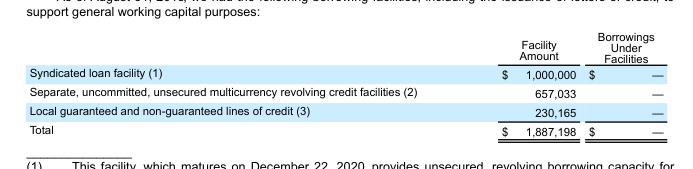table: (28, 29, 662, 137)
table column: (28, 29, 458, 137), (458, 29, 581, 137), (581, 29, 662, 137)
table column header: (28, 29, 662, 65)
table row: (28, 29, 662, 65), (28, 82, 662, 101), (28, 101, 662, 120), (28, 65, 662, 82), (28, 120, 662, 137)
